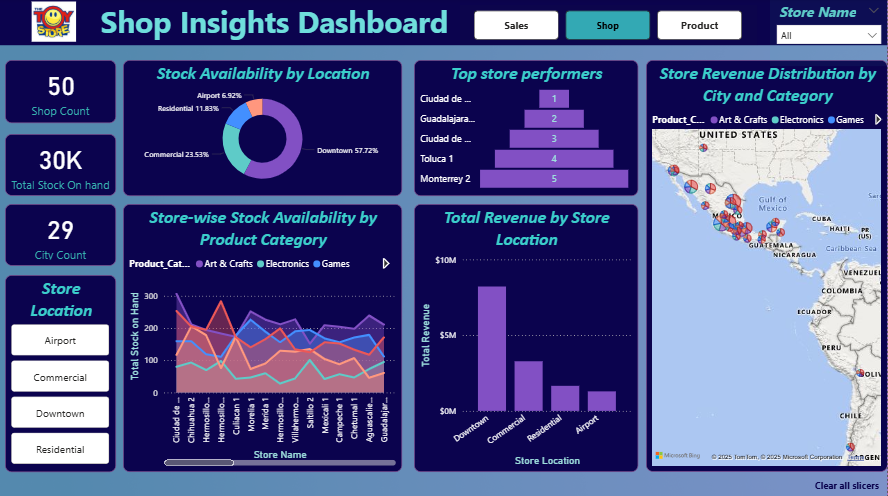

Layout of this report page (visuals, bound fields, positions):
{"tool":"powerbi","page":{"name":"Shop","canvas":[1280,720],"ordinal":6},"visuals":[{"type":"textbox","box":[0,0,1280.2,67.7],"z":0},{"type":"actionButton","box":[1162.1,682.6,118.1,37.4],"z":1000},{"type":"pageNavigator","box":[663.3,9.9,428,58.1],"z":2000},{"type":"donutChart","title":"Stock Availability by Location","fields":{"Category":["stores.Store_Location"],"Y":["Sum(inventory.Stock_On_Hand)"]},"box":[178.6,89.3,401.8,195.8],"z":3000},{"type":"card","fields":{"Values":["Measure Table.Total Units On hand"]},"box":[8.6,195.8,159.8,89.3],"z":4000},{"type":"card","fields":{"Values":["CountNonNull(stores.Store_ID)"]},"box":[8.6,89.3,159.8,90.7],"z":5000},{"type":"card","fields":{"Values":["Count(stores.Store_City)"]},"box":[8.6,296.6,159.8,89.3],"z":6000},{"type":"map","title":"Store Revenue Distribution by City and Category","fields":{"Category":["stores.Store_City"],"Size":["Measure Table.Total Revenue"],"Series":["products.Product_Category"]},"box":[931.7,89.3,348.5,593.3],"z":7000},{"type":"funnel","title":"Top store performers","fields":{"Category":["stores.Store_Name"],"Y":["Measure Table.Store Rank"]},"box":[597.6,89.3,322.6,195.8],"z":8000},{"type":"clusteredColumnChart","title":"Total Revenue by Store Location","fields":{"Category":["stores.Store_Location"],"Y":["Measure Table.Total Revenue"]},"box":[597.6,296.6,322.6,385.9],"z":9000},{"type":"areaChart","title":"Store-wise Stock Availability by Product Category","fields":{"Category":["stores.Store_Name"],"Y":["Sum(inventory.Stock_On_Hand)"],"Series":["products.Product_Category"]},"box":[178.6,296.6,401.8,385.9],"z":10000},{"type":"advancedSlicerVisual","title":"Store Location","fields":{"Values":["stores.Store_Location"]},"box":[8.6,398.9,159.8,283.7],"z":11000},{"type":"image","box":[0,0,157.3,68],"z":12000},{"type":"slicer","title":"Store Name","fields":{"Values":["stores.Store_Name"]},"box":[1109.8,0,170.1,97.8],"z":13000}]}

Visuals, with their boxes in screenshot pixels (x1, y1, x2, y2), scaled from the page's 1280x720 canvas onto the 888x496 screenshot:
textbox: x1=0 y1=0 x2=887 y2=47
actionButton: x1=806 y1=470 x2=887 y2=495
pageNavigator: x1=460 y1=7 x2=757 y2=47
"Stock Availability by Location" donutChart: x1=124 y1=62 x2=403 y2=196
card - Measure Table.Total Units On hand: x1=6 y1=135 x2=117 y2=196
card - CountNonNull(stores.Store_ID): x1=6 y1=62 x2=117 y2=124
card - Count(stores.Store_City): x1=6 y1=204 x2=117 y2=266
"Store Revenue Distribution by City and Category" map: x1=646 y1=62 x2=887 y2=470
"Top store performers" funnel: x1=415 y1=62 x2=638 y2=196
"Total Revenue by Store Location" clusteredColumnChart: x1=415 y1=204 x2=638 y2=470
"Store-wise Stock Availability by Product Category" areaChart: x1=124 y1=204 x2=403 y2=470
"Store Location" advancedSlicerVisual: x1=6 y1=275 x2=117 y2=470
image: x1=0 y1=0 x2=109 y2=47
"Store Name" slicer: x1=770 y1=0 x2=887 y2=67
